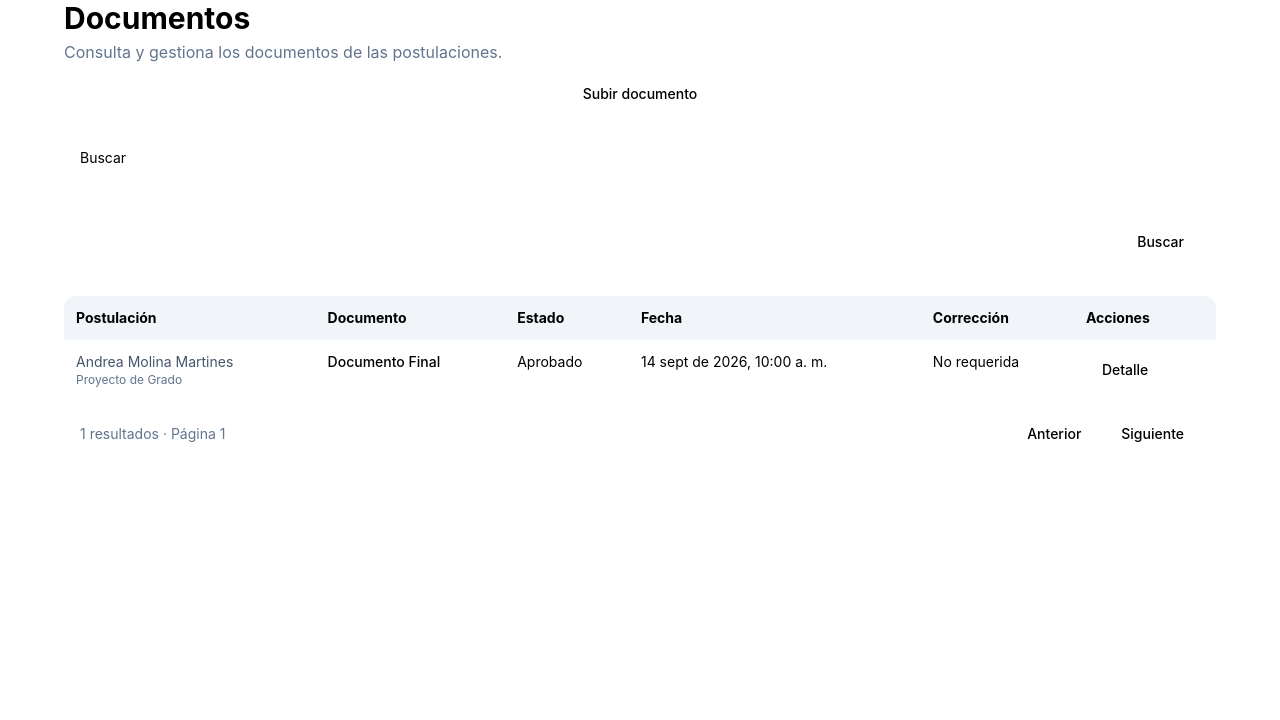
Test: Subir documento › conserva el detalle y la observación general existentes
Step 1. Click the button "Detalle" → (1125, 370), box [1086,352,1164,388]
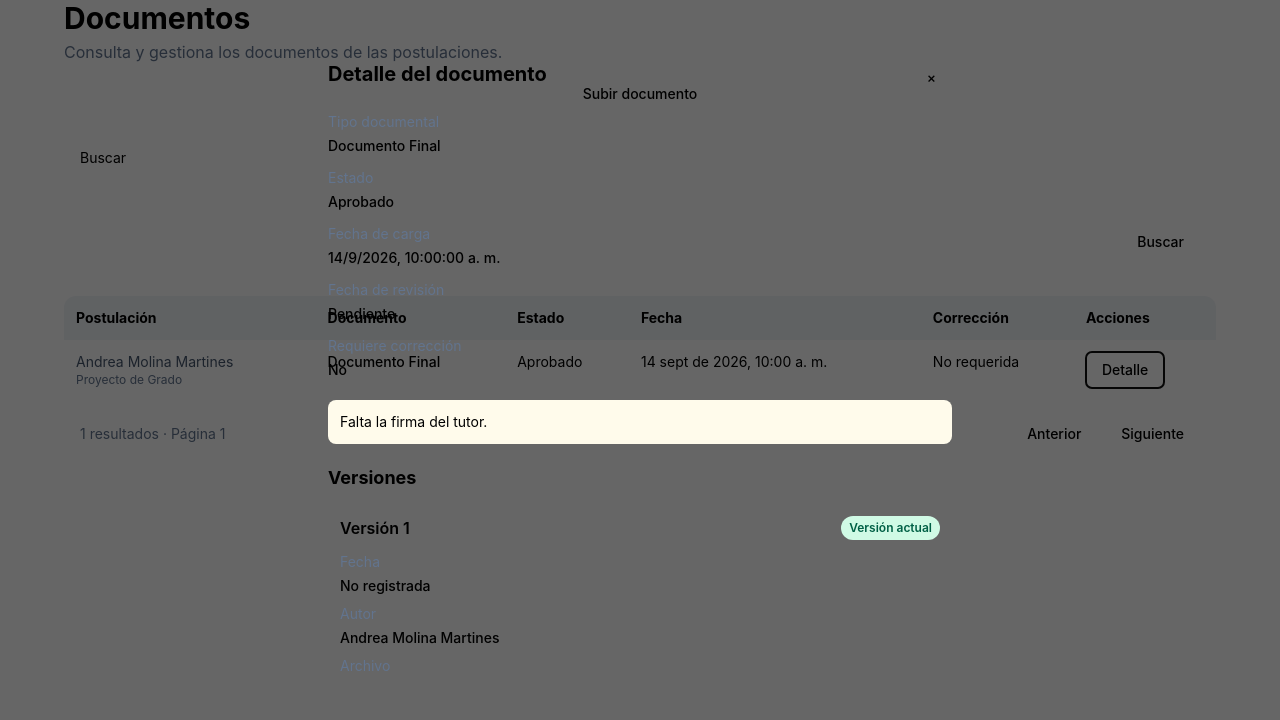
Expected: the text "Documento Final" is shown, [328,137,441,154]
Expected: the text "Falta la firma del tutor." is shown, [328,400,952,444]
